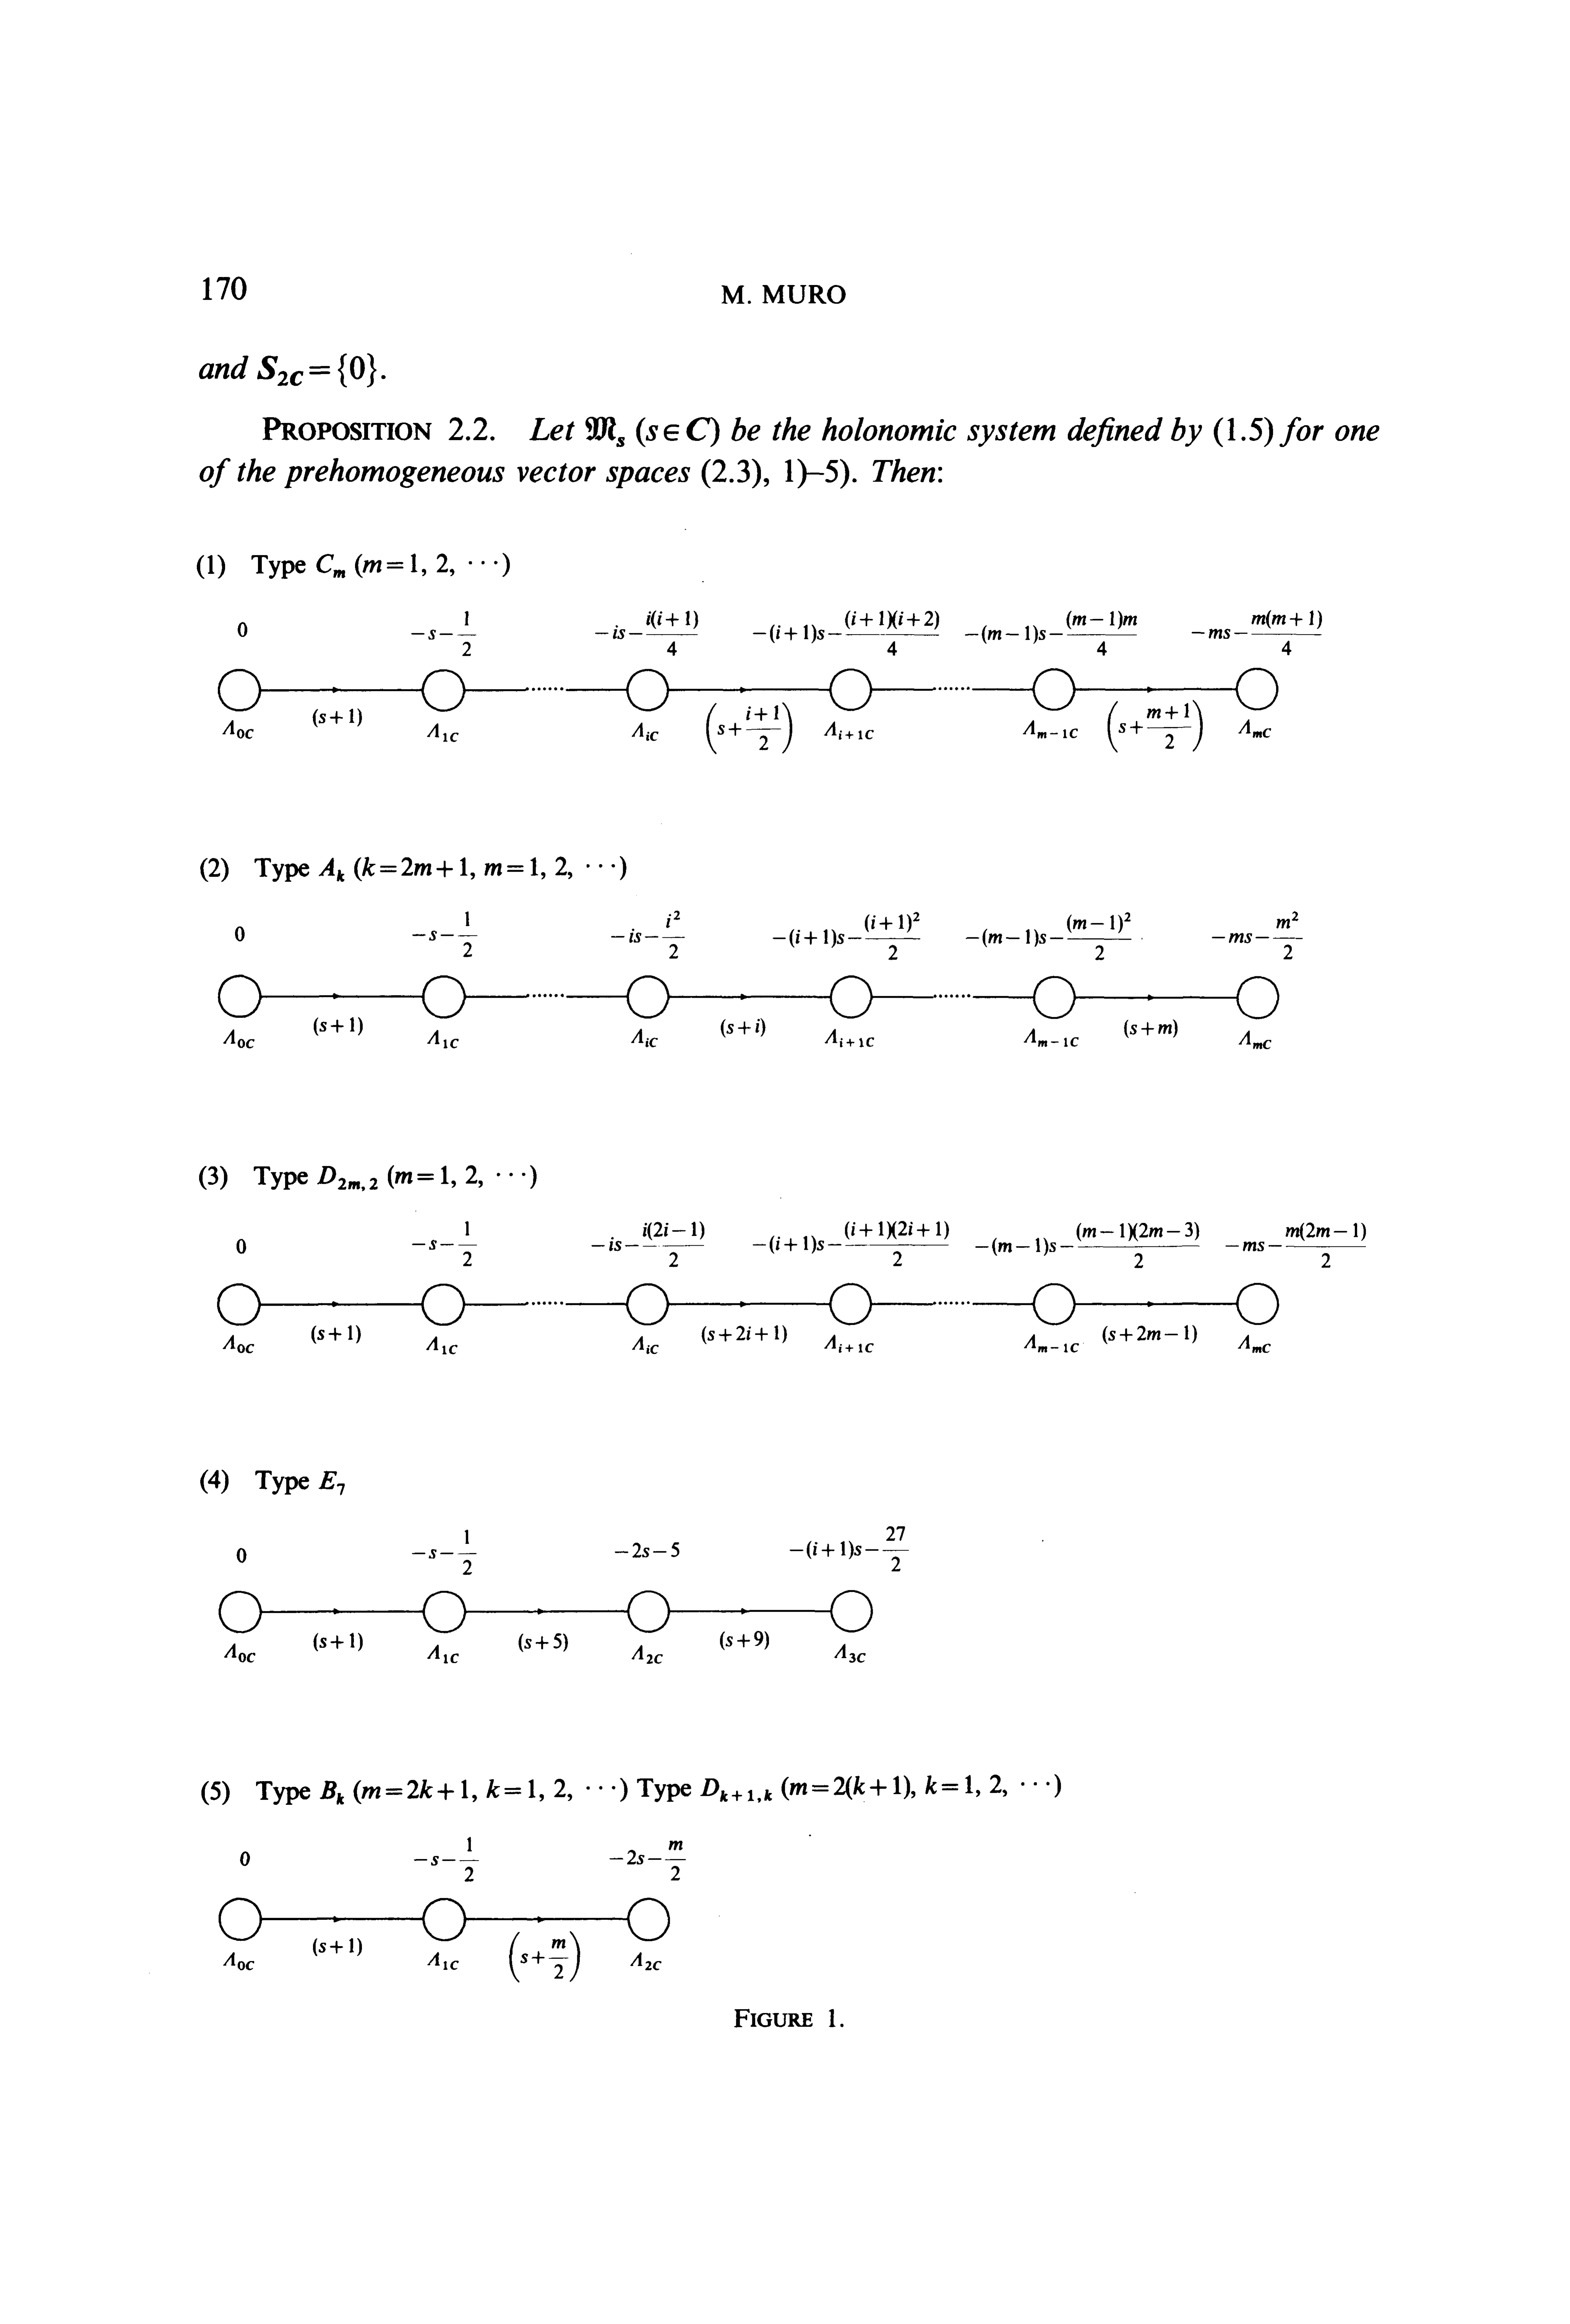maths: (258, 354, 377, 387), (363, 553, 498, 576), (790, 1776, 915, 1800), (484, 856, 615, 879), (394, 1165, 526, 1187), (925, 1774, 1050, 1797), (487, 1779, 615, 1800), (361, 1779, 477, 1802), (363, 856, 466, 877), (647, 417, 718, 447), (701, 1779, 771, 1802), (317, 1166, 377, 1191), (585, 417, 624, 447), (317, 553, 345, 578), (319, 1471, 343, 1496), (319, 858, 343, 881), (321, 1781, 343, 1804), (852, 478, 857, 482)
